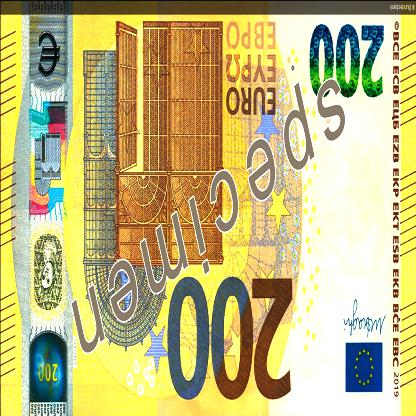euro_banknote: (1, 16, 416, 416)
